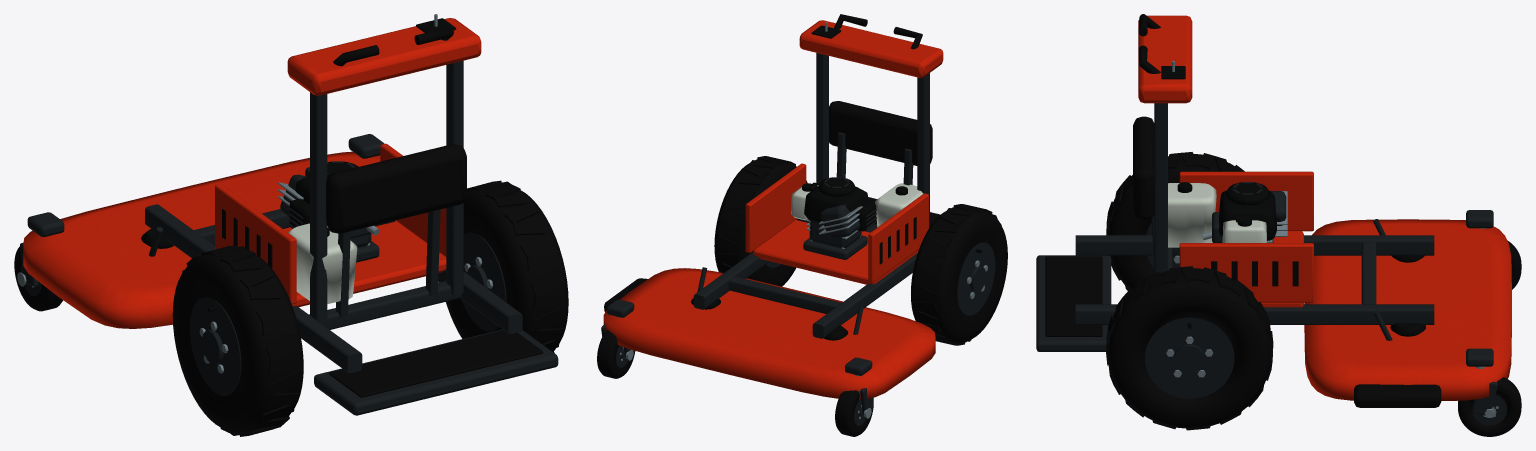
The model's file is StandOnMower.gltf.
3 views of the same model, side by side, from view 1: azimuth 30°, elevation 25°; view 2: azimuth 150°, elevation 25°; view 3: azimuth 270°, elevation 25° (orthographic). The views are drawn at different scales.
Parts seen in each view (by area): view 1: StandOnMower__Body, StandOnMower__Wheel_Rear-1, StandOnMower__Wheel_Rear1, StandOnMower__Wheel_Front-1; view 2: StandOnMower__Body, StandOnMower__Wheel_Rear-1, StandOnMower__Wheel_Rear1, StandOnMower__Wheel_Front-1, StandOnMower__Wheel_Front1; view 3: StandOnMower__Body, StandOnMower__Wheel_Rear1, StandOnMower__Wheel_Rear-1, StandOnMower__Wheel_Front1.
Part boxes in pixels (x1=…): StandOnMower__Body: x1=17, y1=14, x2=558, y2=415; StandOnMower__Wheel_Rear-1: x1=172, y1=245, x2=303, y2=436; StandOnMower__Wheel_Rear1: x1=446, y1=180, x2=568, y2=353; StandOnMower__Wheel_Front-1: x1=14, y1=246, x2=62, y2=311; StandOnMower__Body: x1=601, y1=14, x2=943, y2=418; StandOnMower__Wheel_Rear-1: x1=911, y1=204, x2=1007, y2=345; StandOnMower__Wheel_Rear1: x1=714, y1=156, x2=807, y2=286; StandOnMower__Wheel_Front-1: x1=835, y1=390, x2=873, y2=436; StandOnMower__Wheel_Front1: x1=597, y1=330, x2=635, y2=378; StandOnMower__Body: x1=1036, y1=14, x2=1511, y2=417; StandOnMower__Wheel_Rear1: x1=1106, y1=266, x2=1273, y2=430; StandOnMower__Wheel_Rear-1: x1=1106, y1=152, x2=1244, y2=290; StandOnMower__Wheel_Front1: x1=1458, y1=377, x2=1521, y2=436.
Bounding box in the file's own units: 1.4 × 1.26 × 1.68.
Materials: 1 (1 with a texture image).
